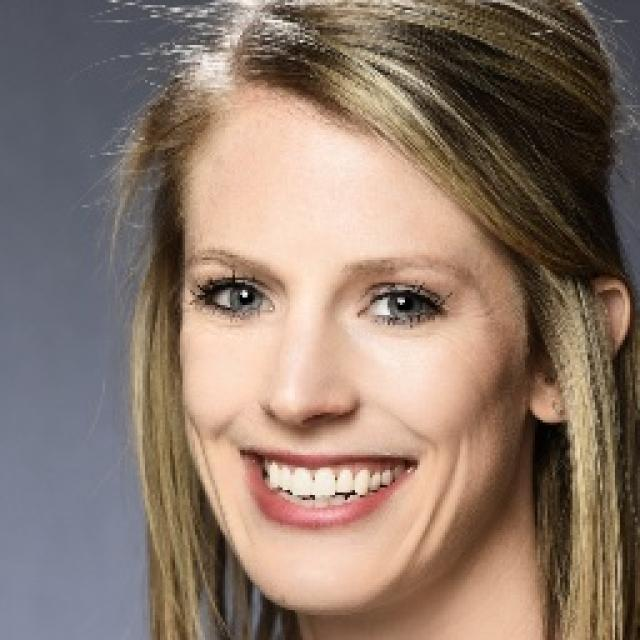earlobe: (527, 271, 632, 426)
